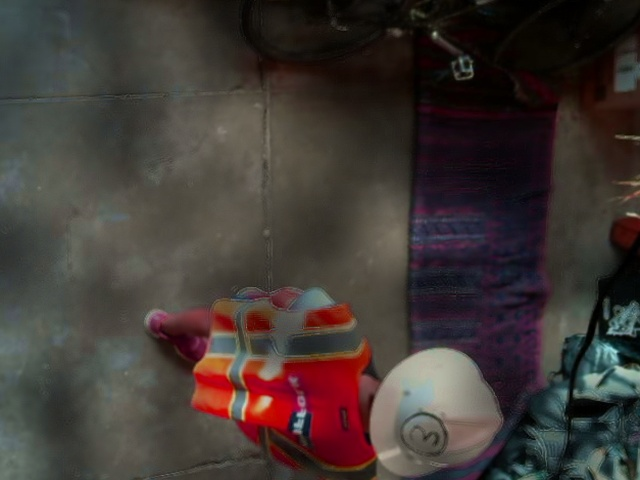three: (399, 412, 448, 455)
